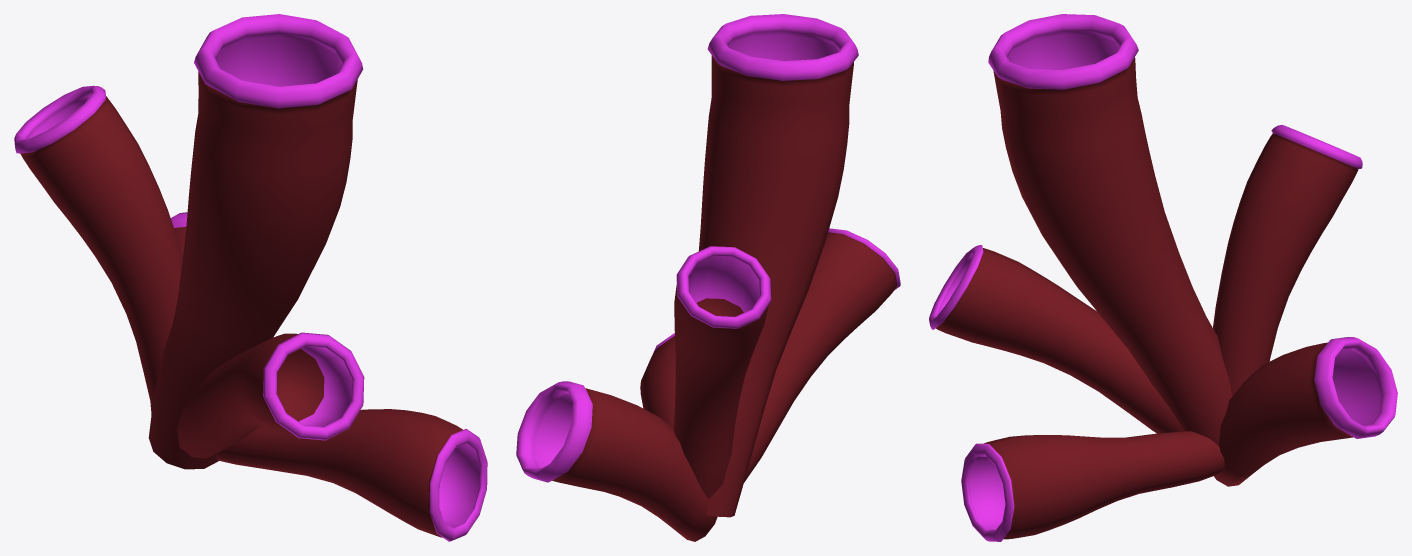
File: CoralGlowing.fbx
3 views of the same model, side by side, from view 1: azimuth 30°, elevation 25°; view 2: azimuth 150°, elevation 25°; view 3: azimuth 270°, elevation 25° (orthographic). The views are drawn at different scales.
Parts seen in each view (by area): view 1: Cylinder.001, Cylinder.002, Cylinder.005, Cylinder.004; view 2: Cylinder.001, Cylinder.003, Cylinder.002, Cylinder.004, Cylinder.005; view 3: Cylinder.001, Cylinder.002, Cylinder.005, Cylinder.004, Cylinder.003.
Part boxes in pixels (x1,y1,x2,y2): Cylinder.001: (148, 14, 363, 469); Cylinder.002: (14, 85, 182, 406); Cylinder.005: (215, 409, 487, 541); Cylinder.004: (177, 332, 364, 458); Cylinder.001: (698, 14, 858, 517); Cylinder.003: (516, 381, 717, 541); Cylinder.002: (673, 246, 771, 498); Cylinder.004: (744, 228, 900, 482); Cylinder.005: (640, 333, 675, 428); Cylinder.001: (988, 14, 1231, 445); Cylinder.002: (1213, 125, 1362, 396); Cylinder.005: (961, 431, 1224, 541); Cylinder.004: (929, 245, 1184, 433); Cylinder.003: (1214, 337, 1397, 486).
Size of the model in its own units: 154 by 246 by 235.
